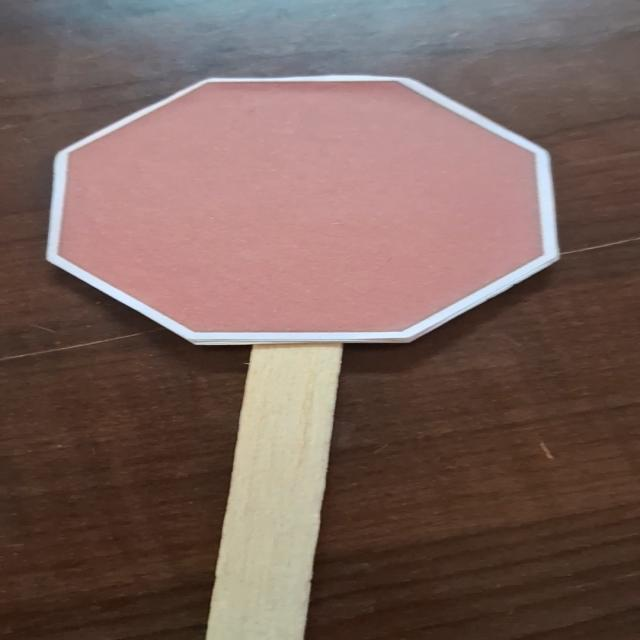Stop: (38, 72, 574, 353)
